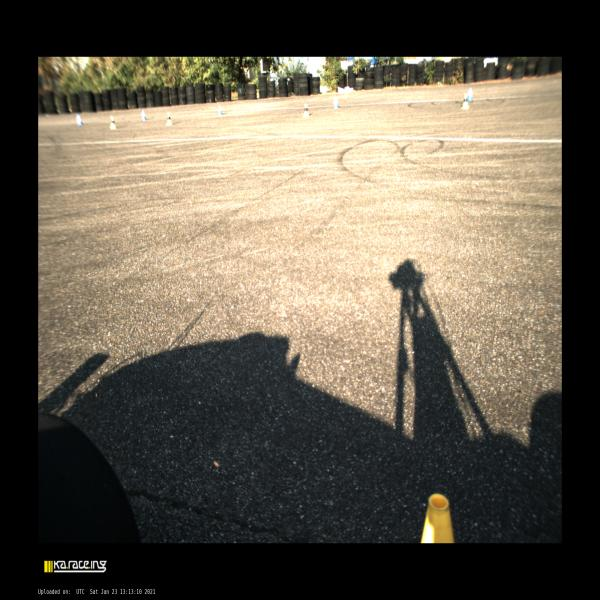blue_cone: (467, 86, 474, 102), (332, 96, 340, 109), (141, 109, 147, 122), (76, 114, 82, 125), (217, 103, 222, 116)
yellow_cone: (461, 92, 470, 110), (109, 115, 117, 130), (302, 102, 309, 118), (166, 112, 173, 126)
